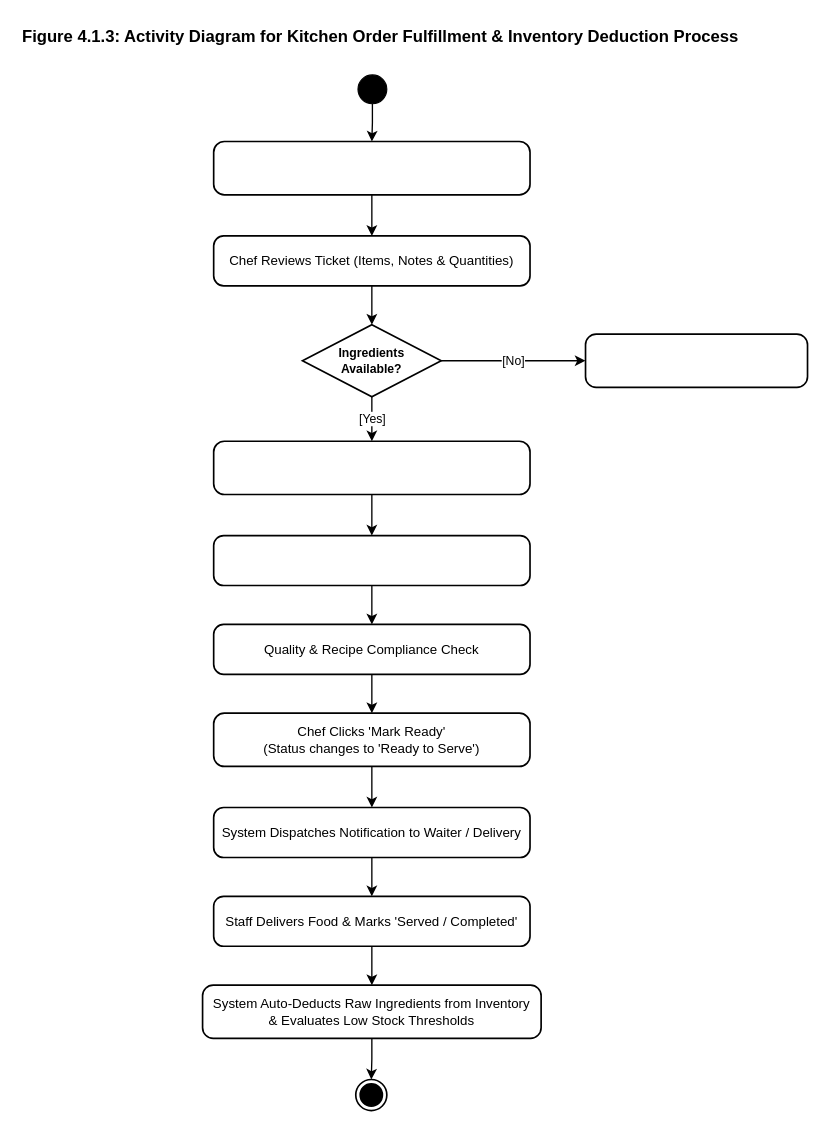
Some shapes in this 827 by 1130 pixel diagram are drawn without their labels. The centre of each missing label's shape, as x and y in pixels:
"Chef Clicks 'Accept Order' & Order Status Updated to 'Preparing'" goes at (x=371, y=467).
"KDS Receives New Order Ticket from System & Plays Notification Alert" goes at (x=371, y=167).
"Kitchen Staff Prepares Dishes & Plates Food" goes at (x=371, y=560).
"Mark Item Out-of-Stock & Notify Admin / Floor Staff" goes at (x=696, y=360).
